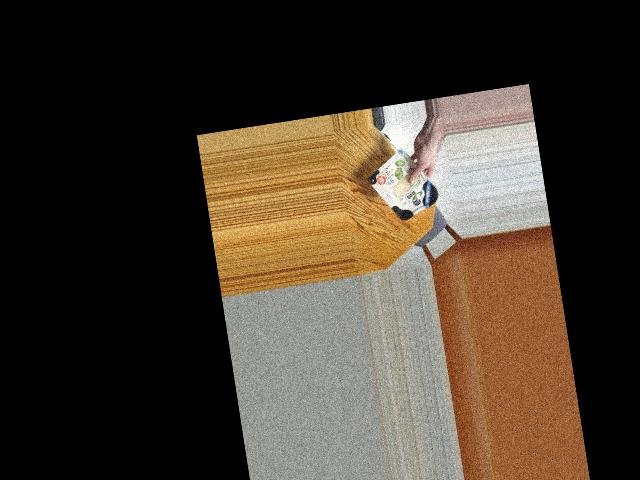cheese: (371, 153, 442, 229)
